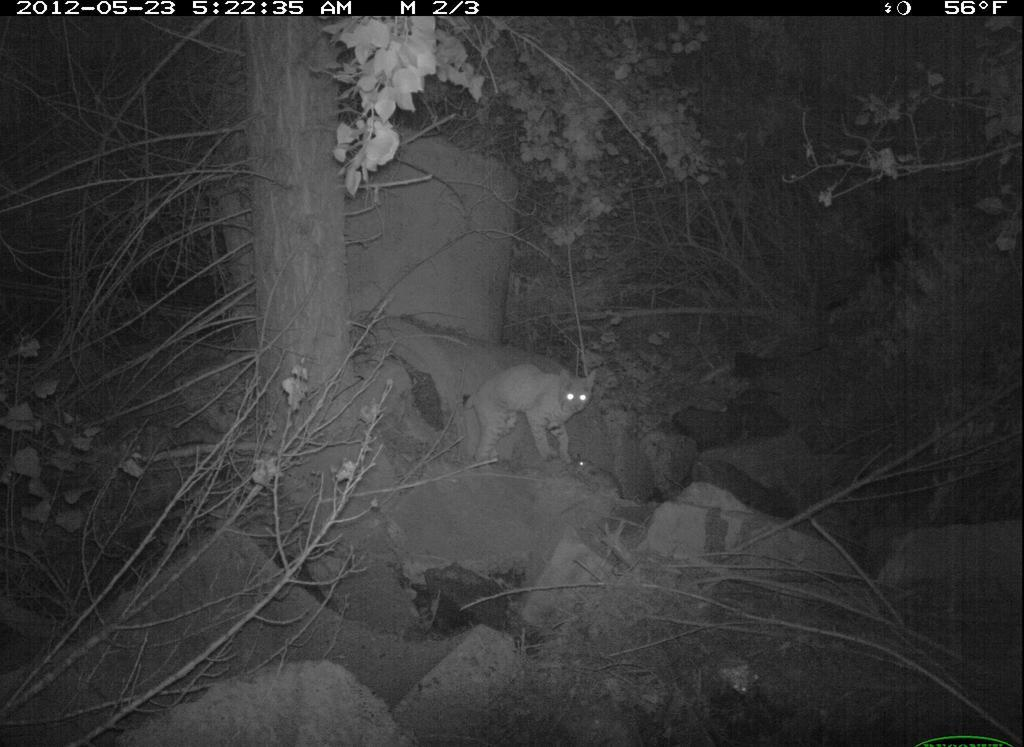bobcat: (461, 359, 601, 472)
